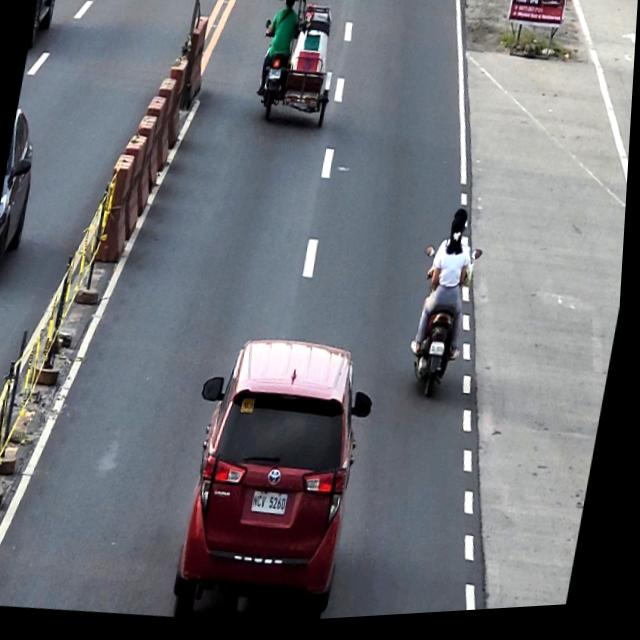Car: (168, 328, 388, 631), (0, 106, 46, 289), (27, 0, 61, 56)
License-Plate: (257, 493, 294, 520), (432, 346, 449, 363), (269, 72, 282, 83)
Motorcycle: (403, 243, 488, 412)
Tricycle: (248, 0, 350, 136)
